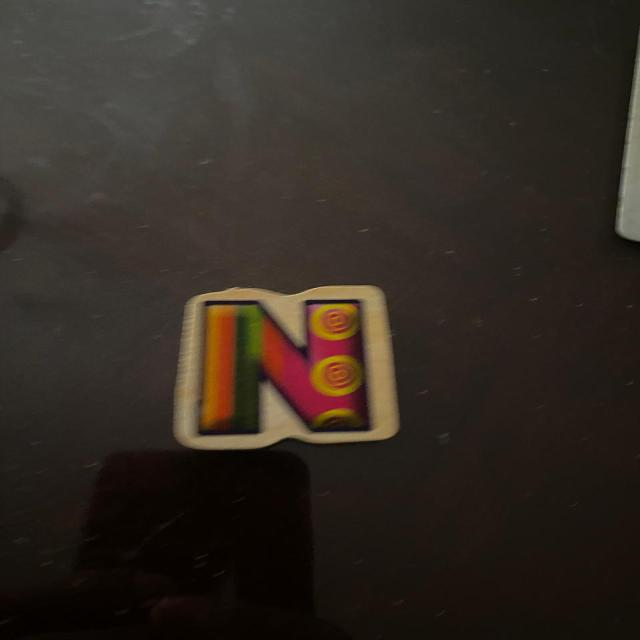N: (175, 286, 399, 449)
